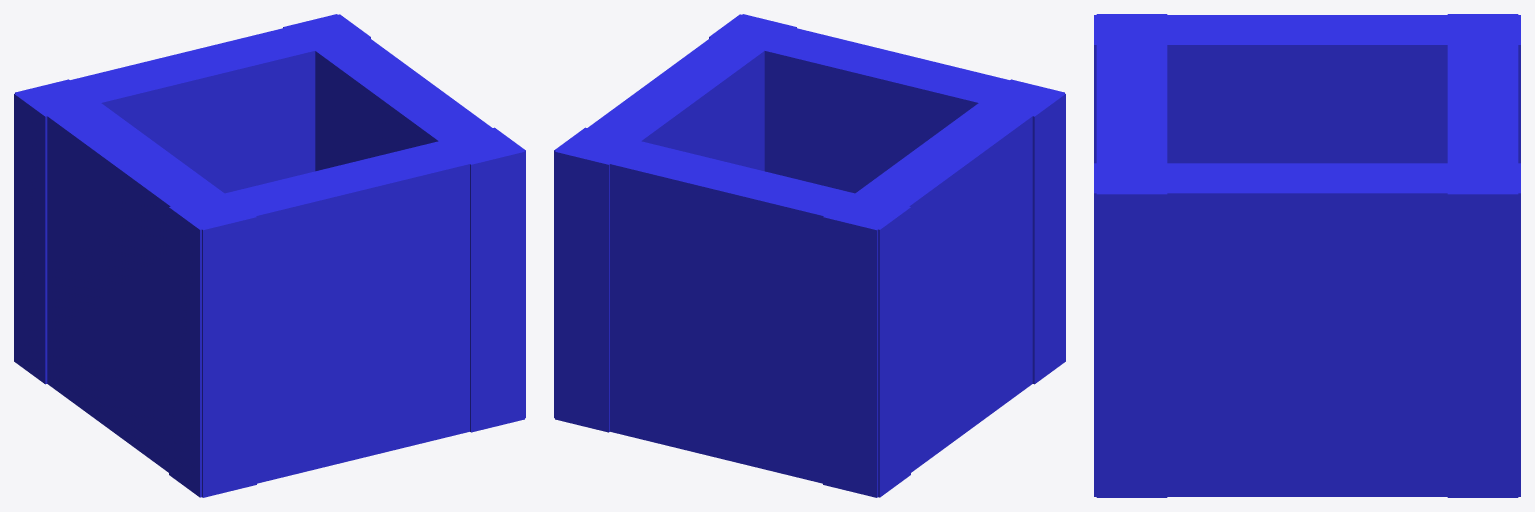
3 views of the same model, side by side, from view 1: azimuth 30°, elevation 25°; view 2: azimuth 150°, elevation 25°; view 3: azimuth 270°, elevation 25° (orthographic). The views are drawn at different scales.
Visible parts, largest first — view 1: Box004, Box001, Box003, Box002; view 2: Box003, Box001, Box004, Box002; view 3: Box002, Box001, Box004, Box003.
Boxes of the visible parts, <box> form: Box004: <box>169,127,525,497</box>; Box001: <box>15,79,256,497</box>; Box003: <box>14,14,370,384</box>; Box002: <box>283,14,524,432</box>; Box003: <box>554,127,910,497</box>; Box001: <box>823,79,1064,497</box>; Box004: <box>709,14,1065,384</box>; Box002: <box>555,14,796,432</box>; Box002: <box>1094,163,1520,496</box>; Box001: <box>1094,15,1520,163</box>; Box004: <box>1096,14,1167,497</box>; Box003: <box>1447,14,1518,497</box>.
Bounding box in the file's own units: 20.14 × 15.81 × 20.14.
